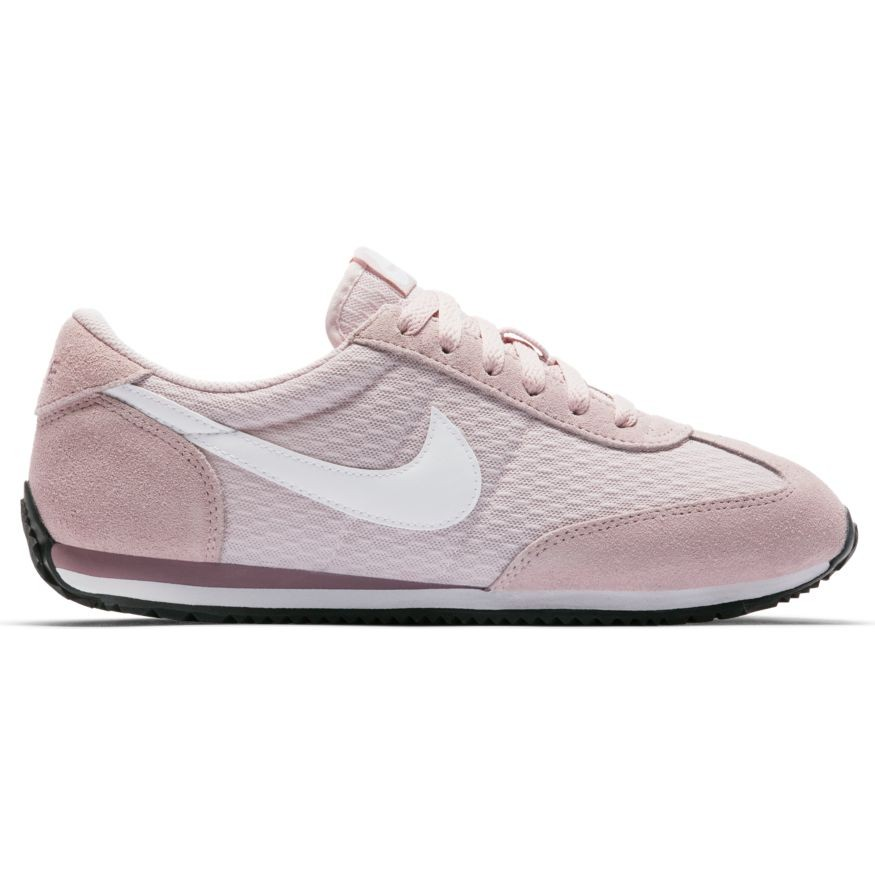nike: (99, 379, 489, 538)
